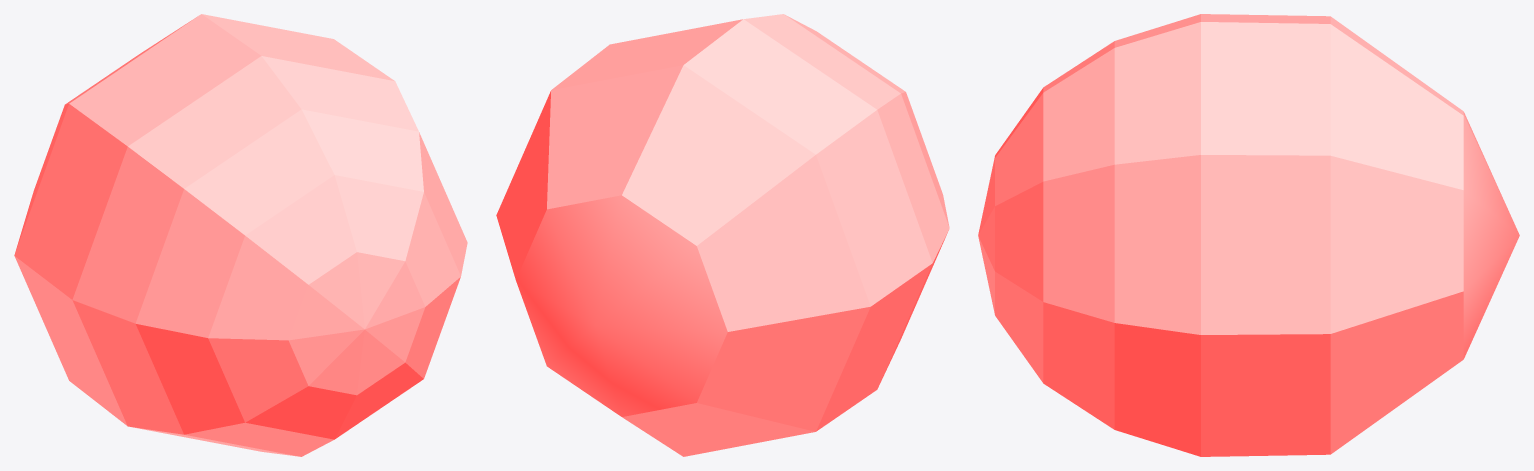
File: BulletModel3.fbx
The picture shows the model from 3 angles, left to right: view 1: azimuth 30°, elevation 25°; view 2: azimuth 150°, elevation 25°; view 3: azimuth 270°, elevation 25°; orthographic projection. The views are drawn at different scales.
Visible parts, largest first — view 1: BolletModel; view 2: BolletModel; view 3: BolletModel.
Boxes of the visible parts, box(x1,y1,x2,y2) form: BolletModel: box(14, 14, 467, 456); BolletModel: box(496, 14, 949, 456); BolletModel: box(978, 14, 1519, 456).
Size of the model in its own units: 212 by 212 by 243.
